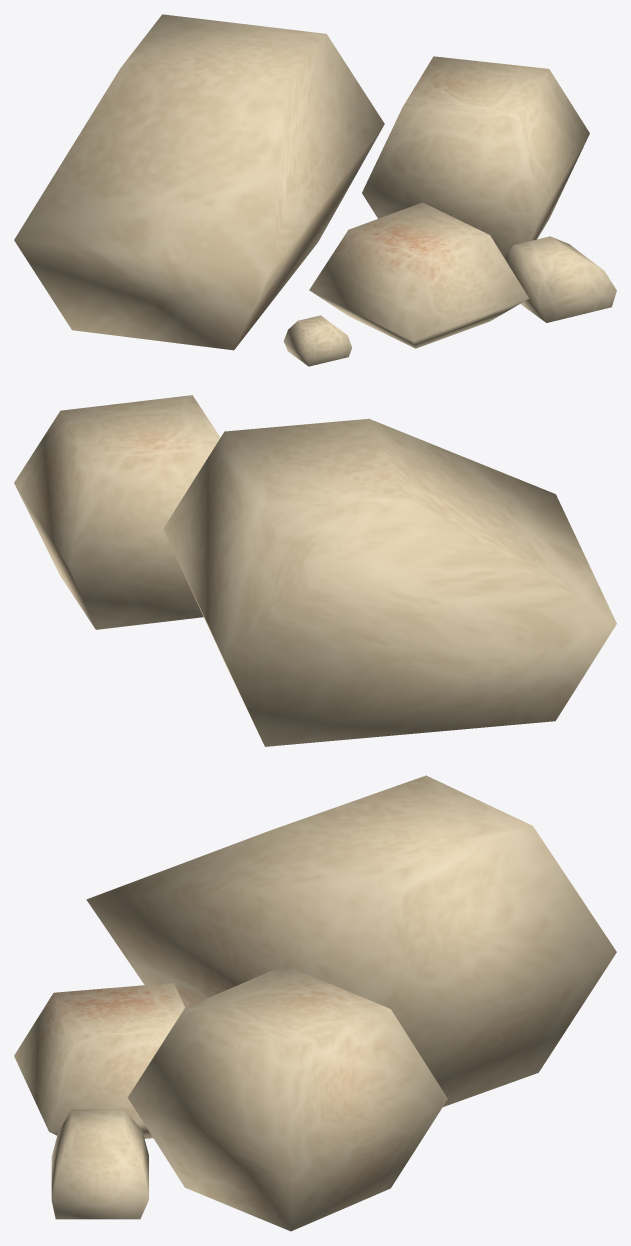
Rendered from rubbles3.fbx.
3 renders of one model, top to bottom at view 1: azimuth 30°, elevation 25°; view 2: azimuth 150°, elevation 25°; view 3: azimuth 270°, elevation 25°, orthographic. The views are drawn at different scales.
Visible parts, largest first — view 1: rubbles3; view 2: rubbles3; view 3: rubbles3.
Boxes of the visible parts, left/top/right/bottom form: rubbles3: left=14, top=14, right=616, bottom=366; rubbles3: left=14, top=395, right=616, bottom=746; rubbles3: left=14, top=775, right=616, bottom=1231.
Bounding box in the file's own units: 0.7204 × 0.2597 × 0.5611.
